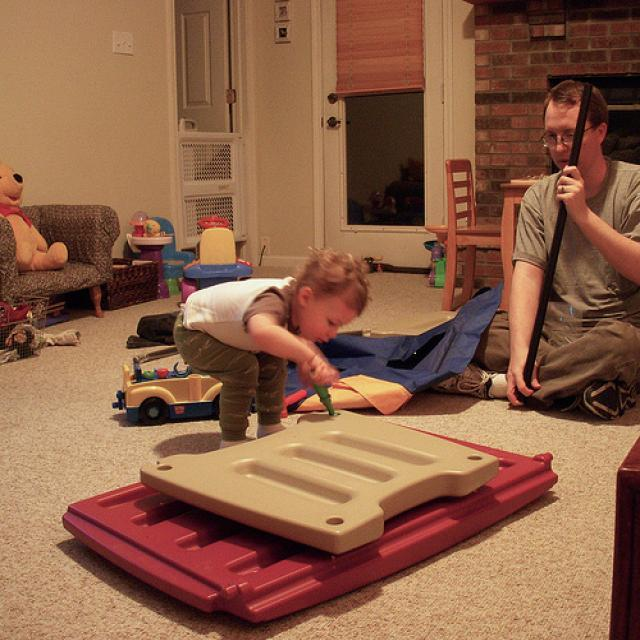screwdriver: (292, 361, 348, 423)
